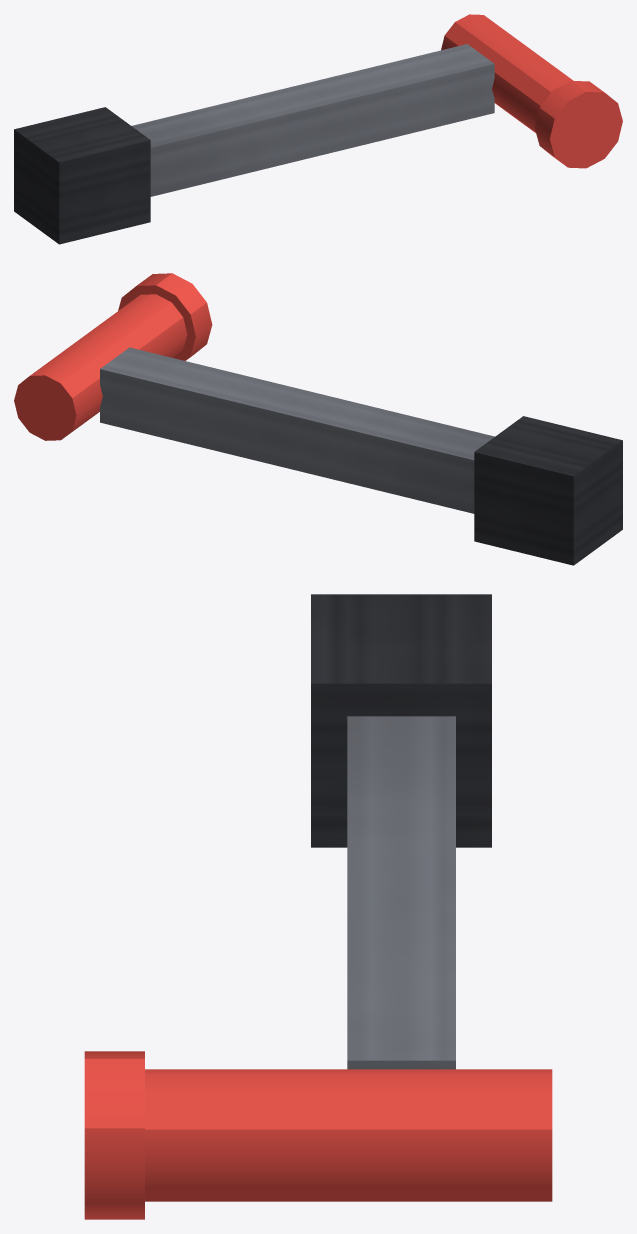
The model's file is Item_LeverHandle.fbx.
3 views of the same model, one above another, from view 1: azimuth 30°, elevation 25°; view 2: azimuth 150°, elevation 25°; view 3: azimuth 270°, elevation 25° (orthographic). The views are drawn at different scales.
Visible parts, largest first — view 1: Item_LeverHandle; view 2: Item_LeverHandle; view 3: Item_LeverHandle.
Part boxes in pixels (bbox=[...]): Item_LeverHandle: bbox=[14, 14, 622, 244]; Item_LeverHandle: bbox=[14, 273, 622, 565]; Item_LeverHandle: bbox=[84, 594, 552, 1219].
Size of the model in its own units: 0.388 by 0.06 by 0.155.
3 materials, 2 textured.
